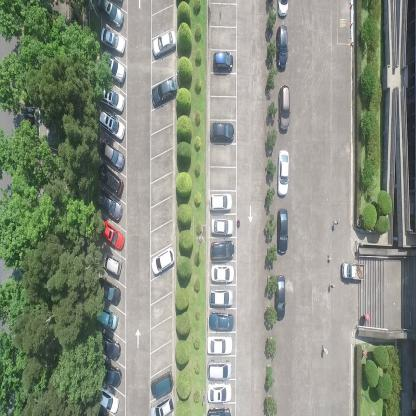car: (97, 108, 126, 143), (96, 162, 124, 196), (151, 76, 179, 108), (98, 138, 125, 171), (96, 188, 122, 222), (100, 218, 126, 251), (101, 53, 127, 86), (97, 0, 125, 30), (98, 329, 122, 362), (151, 245, 176, 276), (100, 27, 126, 56), (99, 84, 125, 112), (150, 370, 174, 400), (96, 384, 120, 414), (97, 276, 121, 306), (152, 29, 176, 58), (100, 250, 122, 280), (277, 84, 290, 133), (101, 358, 122, 387), (209, 310, 234, 334), (206, 333, 233, 355), (274, 273, 286, 321), (95, 304, 118, 329), (149, 394, 175, 416), (276, 24, 288, 70), (276, 208, 288, 254), (278, 148, 289, 198), (340, 260, 365, 282), (210, 240, 235, 262), (207, 358, 232, 380), (207, 382, 232, 404), (209, 122, 235, 143), (210, 264, 235, 284), (209, 193, 232, 214), (209, 288, 234, 307), (213, 51, 233, 73), (211, 218, 234, 236), (207, 405, 232, 415), (277, 0, 289, 20)
